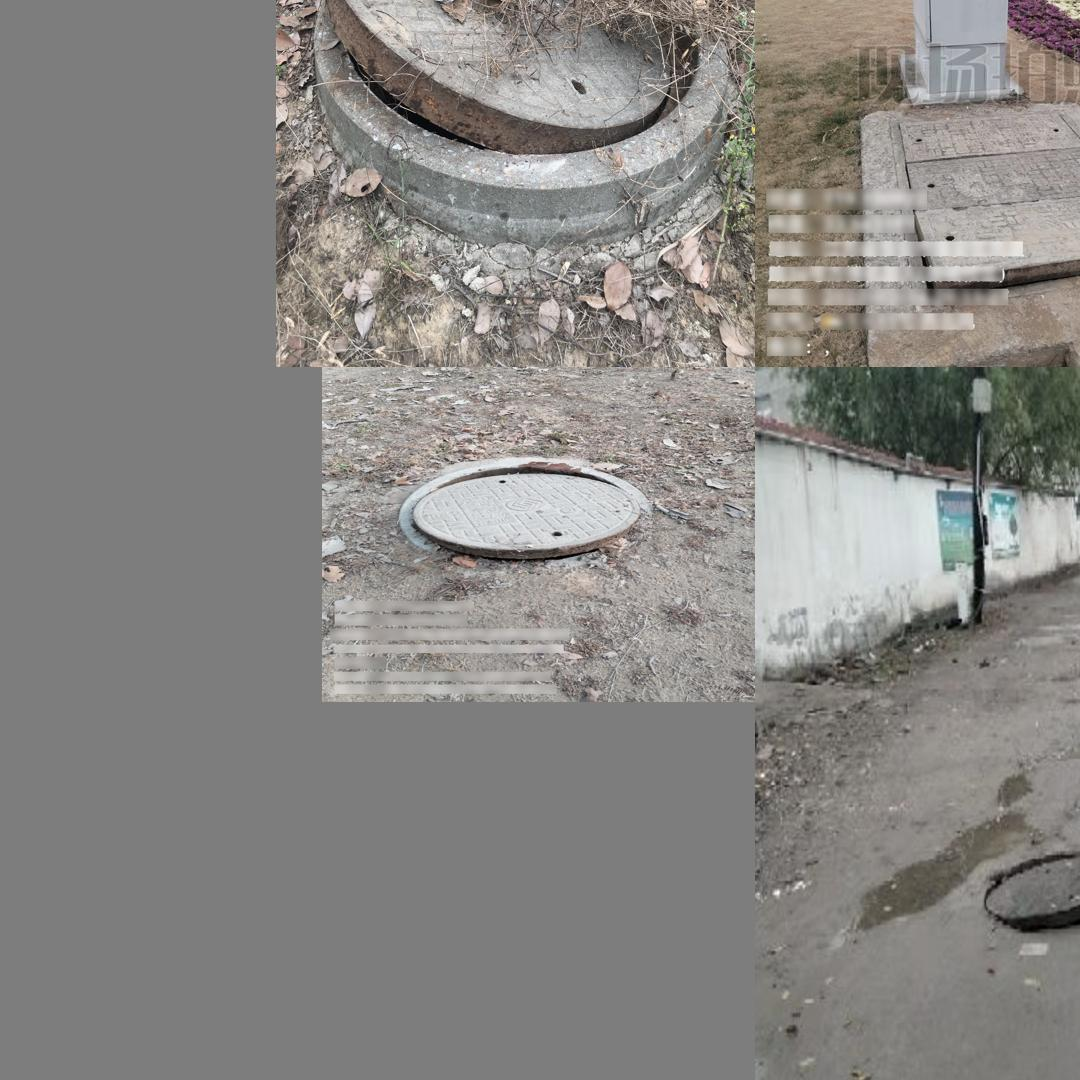uncovered: (309, 0, 729, 194), (889, 107, 1080, 307), (398, 460, 651, 571), (984, 849, 1080, 937)
